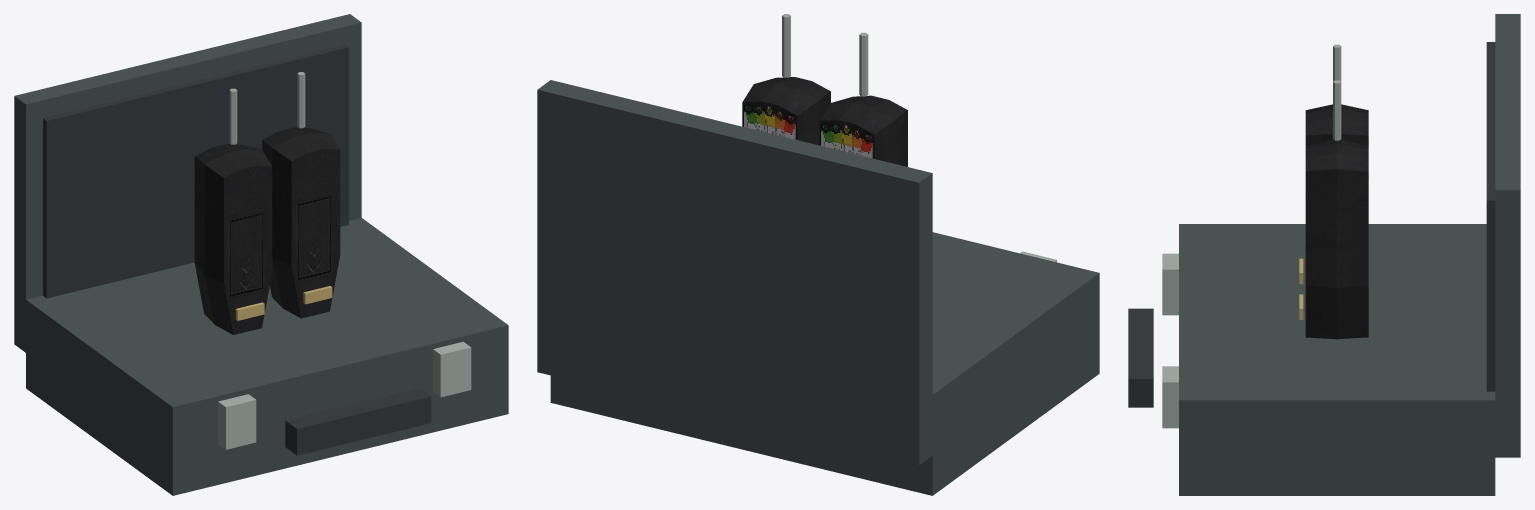
The model's file is blender_emf_array_1.glb.
3 views of the same model, side by side, from view 1: azimuth 30°, elevation 25°; view 2: azimuth 150°, elevation 25°; view 3: azimuth 270°, elevation 25° (orthographic). The views are drawn at different scales.
Visible parts, largest first — view 1: blender_emf_array_1; view 2: blender_emf_array_1; view 3: blender_emf_array_1.
Part boxes in pixels (x1=…): blender_emf_array_1: x1=14, y1=14, x2=508, y2=495; blender_emf_array_1: x1=537, y1=14, x2=1099, y2=495; blender_emf_array_1: x1=1128, y1=14, x2=1520, y2=495.
Bounding box in the file's own units: 0.198 × 0.18 × 0.186.
Materials: 1 (1 with a texture image).
